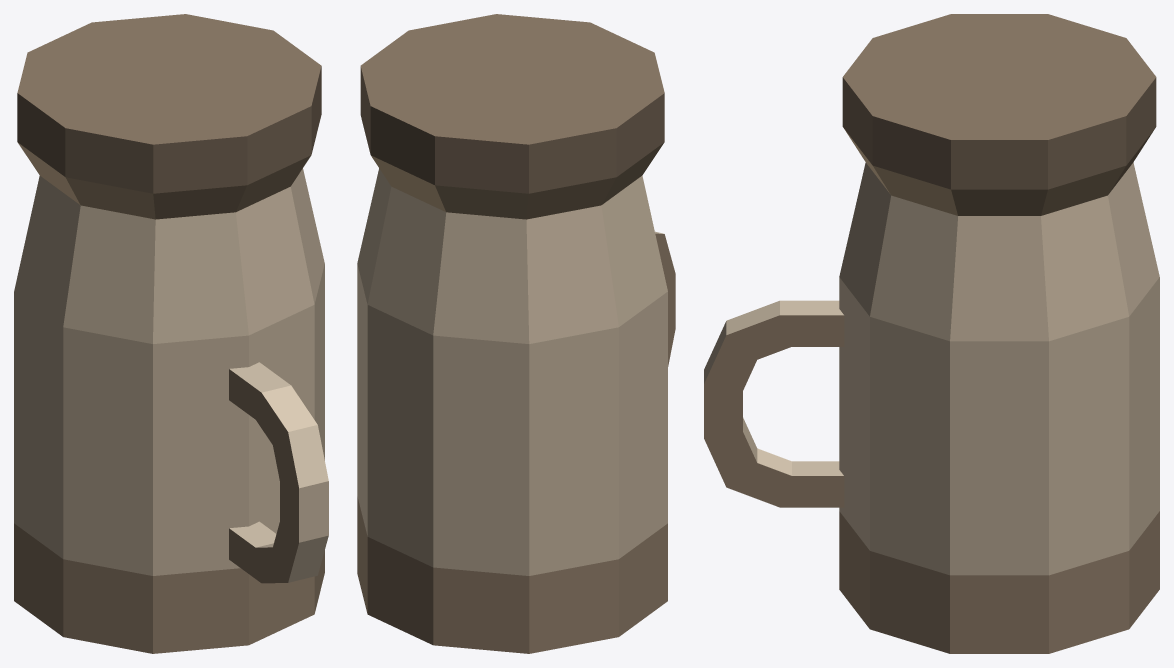
Rendered from CR_Mug_Lidded.fbx.
3 renders of one model, left to right at view 1: azimuth 30°, elevation 25°; view 2: azimuth 150°, elevation 25°; view 3: azimuth 270°, elevation 25°, orthographic.
Visible parts, largest first — view 1: CR_Mug_Lidded; view 2: CR_Mug_Lidded; view 3: CR_Mug_Lidded.
Boxes of the visible parts, x1,y1,x2,y2 form: CR_Mug_Lidded: [14, 14, 328, 653]; CR_Mug_Lidded: [357, 14, 675, 653]; CR_Mug_Lidded: [704, 14, 1159, 653].
Bounding box in the file's own units: 0.1818 × 0.3372 × 0.2717.
